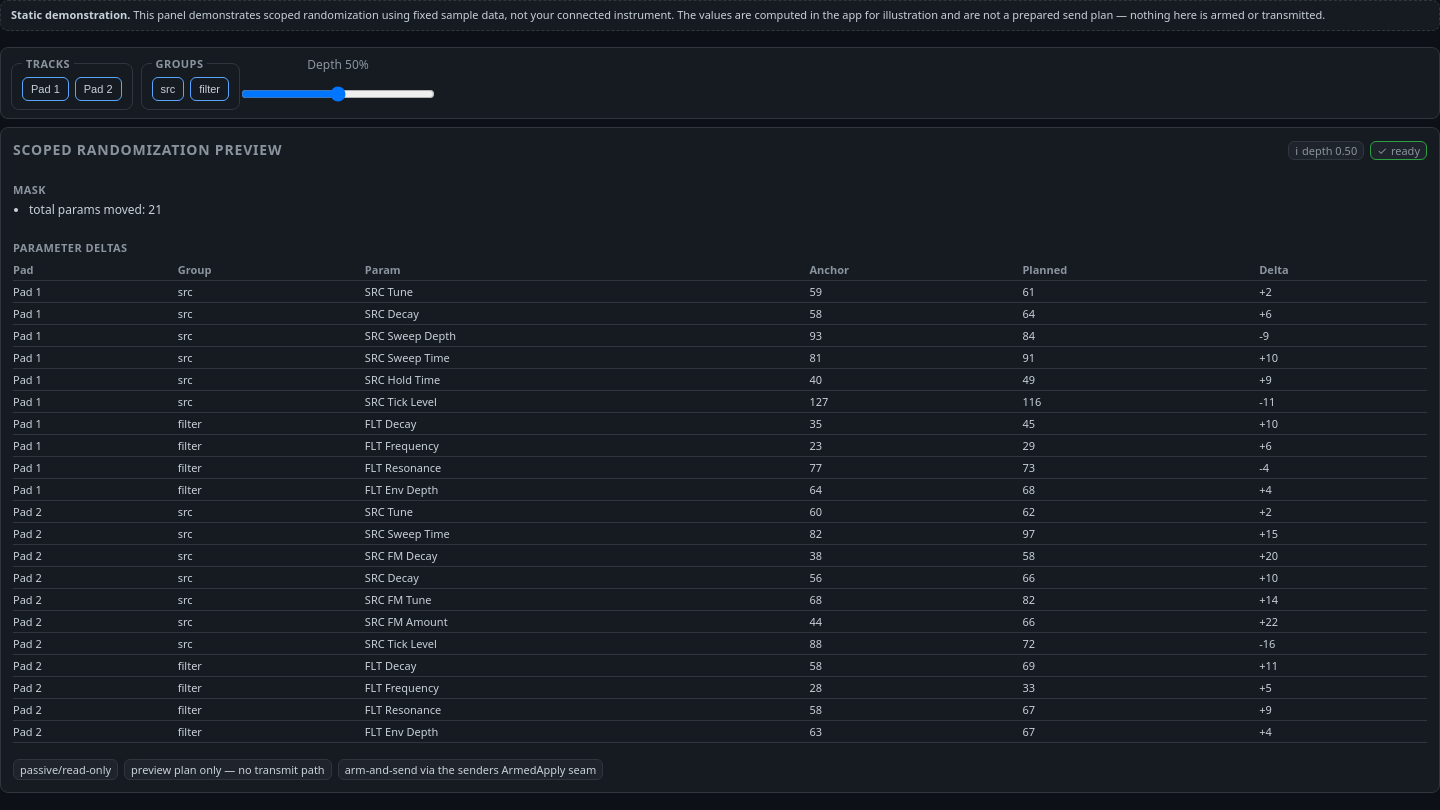
ScopedRandomizationPanel (interactive) › the depth slider exposes value/min/max and updates the plan
Set the slider with test id "scope-depth-slider" to "0" at (249, 94), box [241,81,435,107]
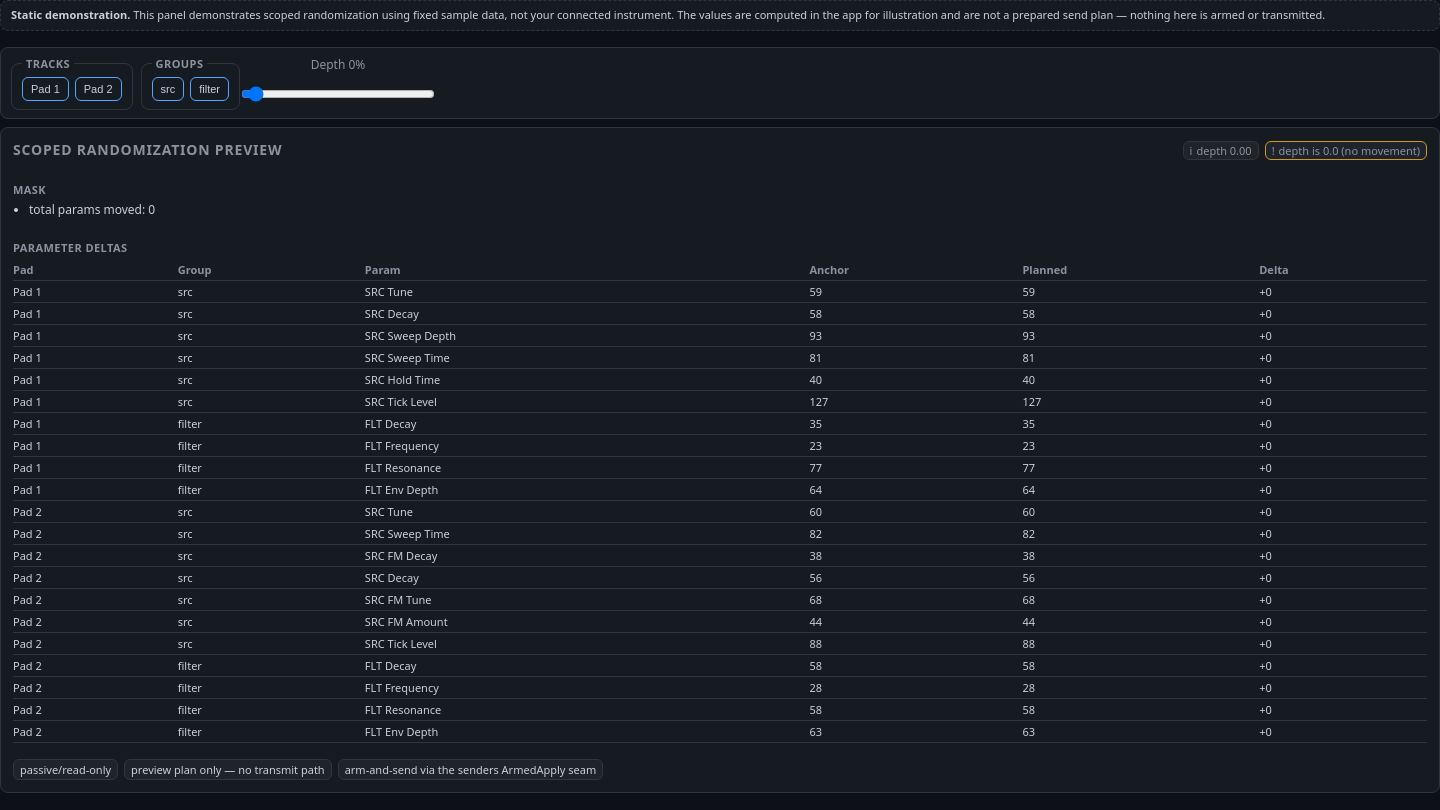
Now the text "depth 0.00" is shown, box [1196,142,1252,158]
Now the text "depth is 0.0 (no movement)" is shown, box [1279,142,1420,158]
